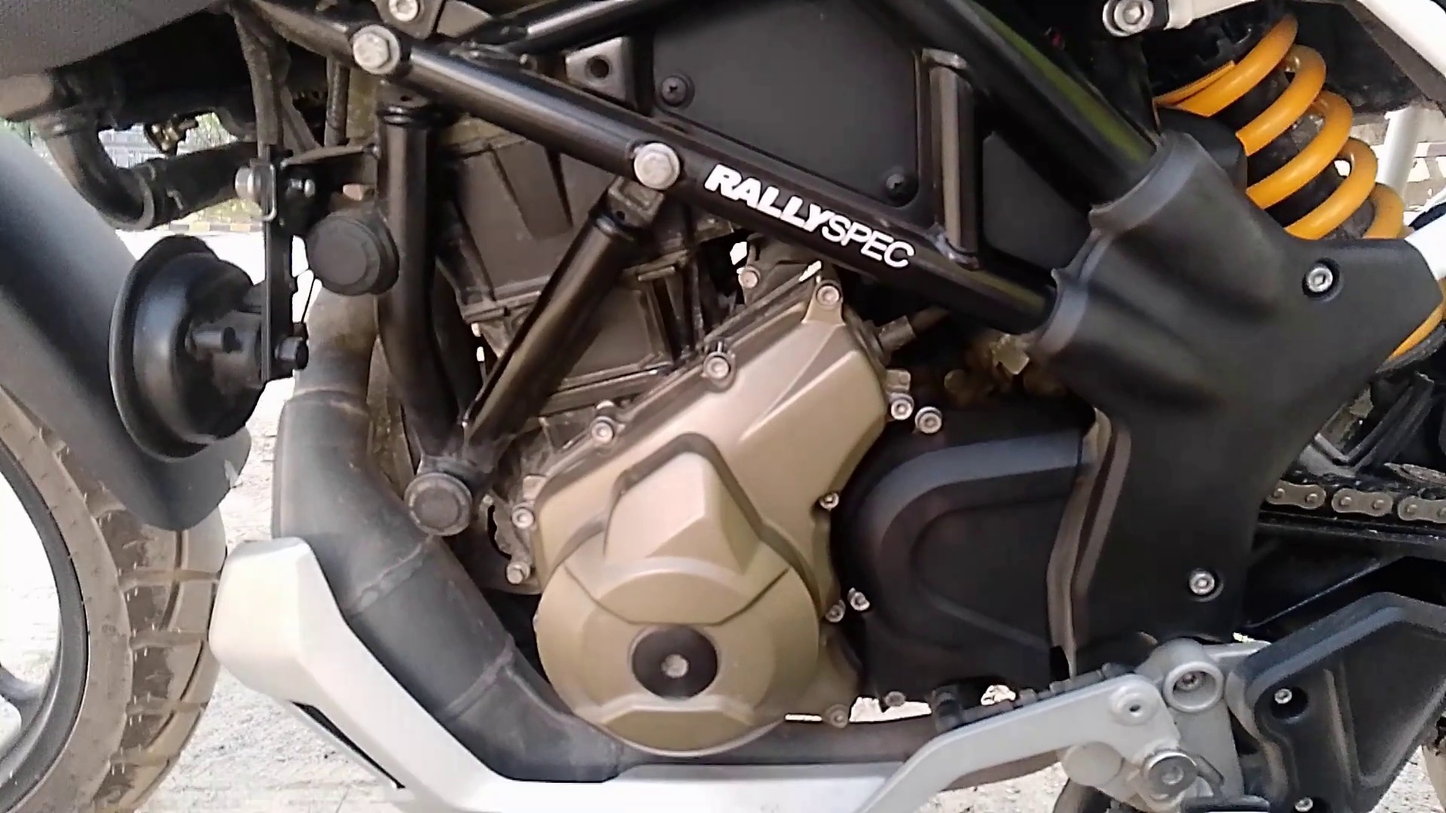engine: (473, 186, 924, 766)
